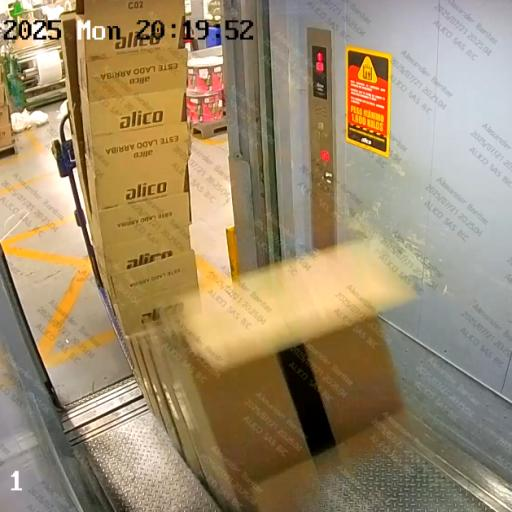Caja caida: (58, 77, 436, 512)
